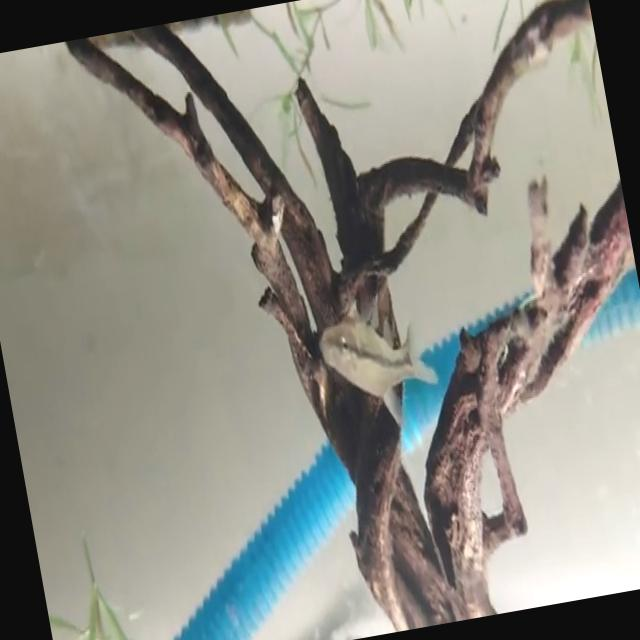Cakil Baligi: (313, 286, 441, 419)
